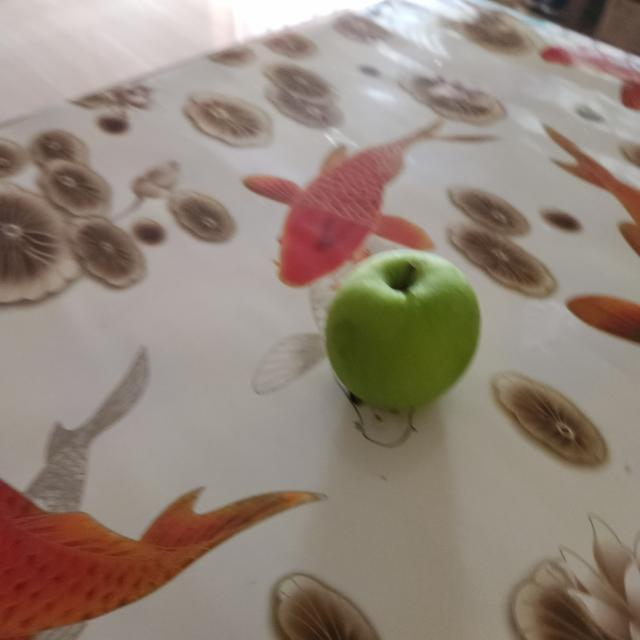apple: (323, 248, 488, 422)
